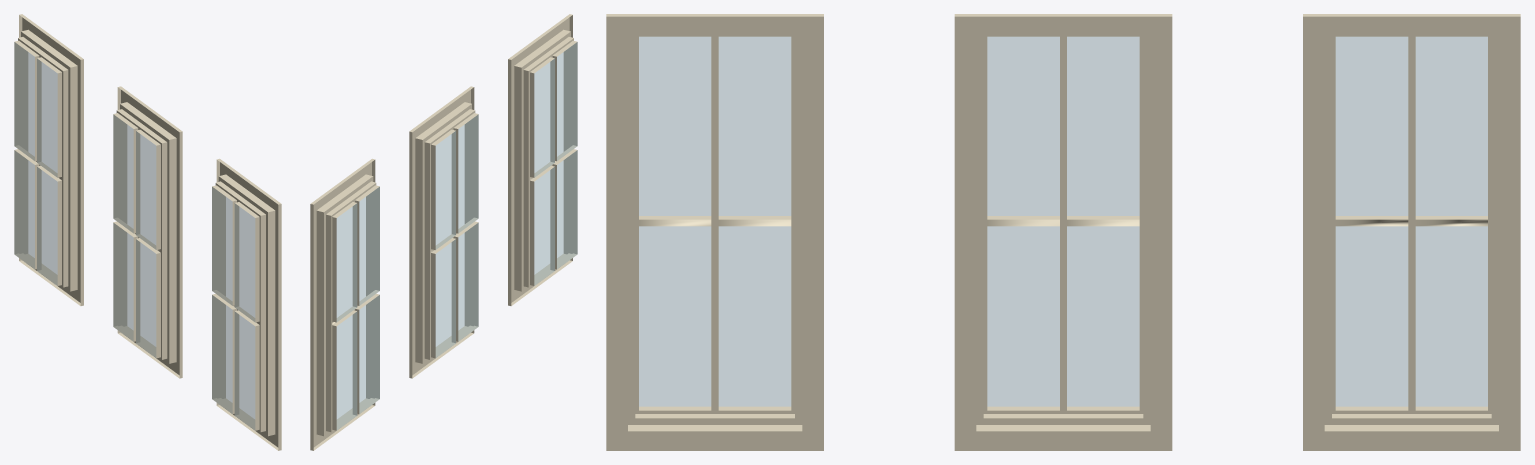
The picture shows the model from 3 angles, left to right: view 1: azimuth 30°, elevation 25°; view 2: azimuth 150°, elevation 25°; view 3: azimuth 270°, elevation 25°; orthographic projection. The views are drawn at different scales.
Visible parts, largest first — view 1: Mesh1_Model.004; view 2: Mesh1_Model.004; view 3: Mesh1_Model.004.
Part boxes in pixels (x1,y1,x2,y2): Mesh1_Model.004: (14,14,281,450); Mesh1_Model.004: (310,14,577,450); Mesh1_Model.004: (606,14,1520,450).
Bounding box in the file's own units: 0.0728 × 1 × 1.91.
